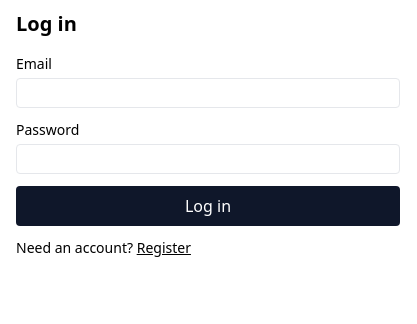
Test: LoginPage — failed-login messaging (Step 7A remediation, finding M-3) › clears the previous error on a new submit attempt
The width and height of the screenshot is (417, 324).
Type "someone@example.com" into the field labelled "Email" at (208, 93), box x1=16 y1=78 x2=400 y2=108
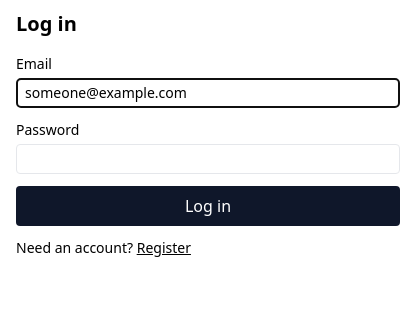
Type "wrong-password" into the password field labelled "Password" at (208, 159), box x1=16 y1=144 x2=400 y2=174
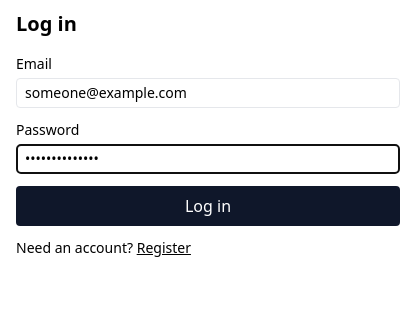
Click the button "Log in" at (208, 206), box x1=16 y1=186 x2=400 y2=226
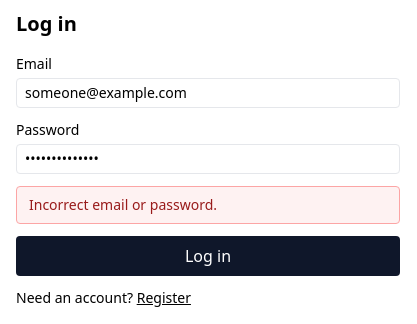
Check: the message "Incorrect email or password." is shown, box x1=16 y1=186 x2=400 y2=224
Click the button "Log in" at (208, 256), box x1=16 y1=236 x2=400 y2=276
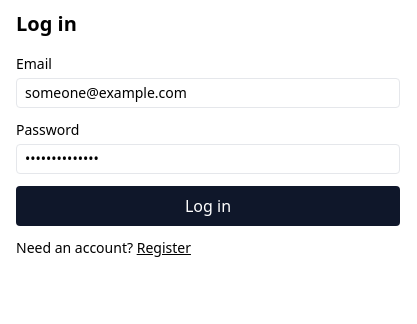
Check: the message "Incorrect email or password." is gone
